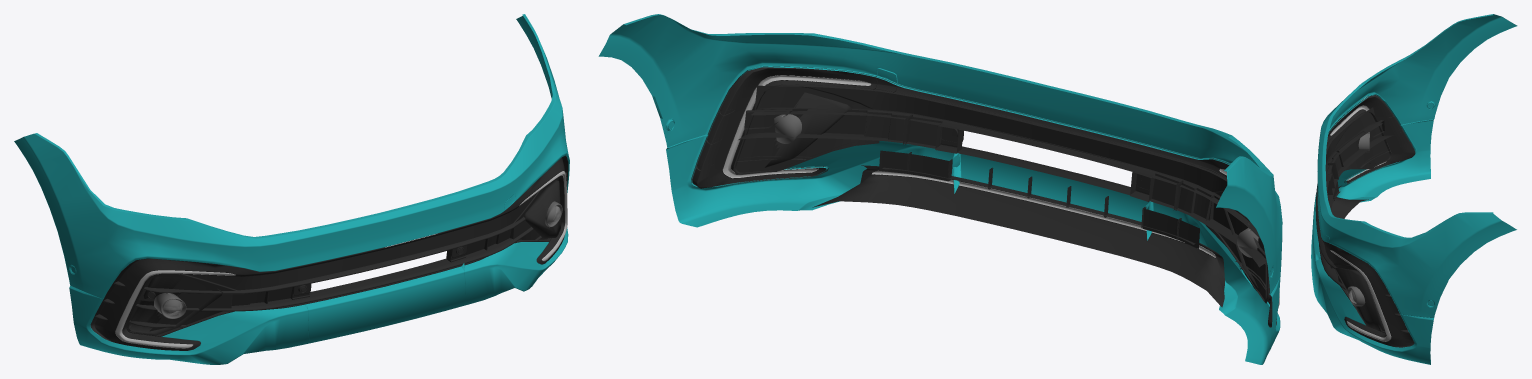
3 renders of one model, left to right at view 1: azimuth 30°, elevation 25°; view 2: azimuth 150°, elevation 25°; view 3: azimuth 270°, elevation 25°, orthographic. The views are drawn at different scales.
Visible parts, largest first — view 1: front bumper 2; view 2: front bumper 2; view 3: front bumper 2.
Part boxes in pixels (x1,y1,x2,y2): front bumper 2: (14, 14, 569, 364); front bumper 2: (598, 14, 1282, 364); front bumper 2: (1311, 14, 1517, 364).
Bounding box in the file's own units: 1.89 × 0.6723 × 0.8099.
